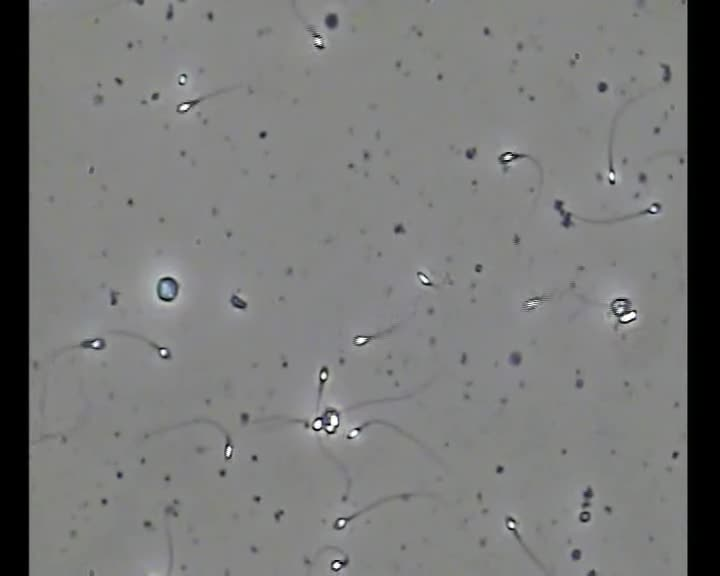spermhead: (156, 276, 178, 301), (322, 407, 340, 434), (609, 297, 631, 317), (313, 26, 326, 52), (229, 292, 248, 309), (617, 309, 638, 324), (416, 269, 433, 286), (84, 336, 107, 348), (496, 152, 517, 165), (331, 557, 349, 571), (177, 100, 195, 114), (324, 12, 338, 29), (350, 332, 367, 345), (521, 297, 538, 310), (333, 516, 348, 530), (646, 201, 661, 214), (347, 426, 361, 439), (553, 199, 566, 213), (224, 440, 233, 460), (505, 516, 517, 531), (318, 365, 328, 383), (561, 212, 573, 227), (157, 346, 171, 358), (579, 509, 591, 523), (311, 416, 322, 431), (607, 168, 616, 184), (177, 72, 187, 85), (566, 274, 576, 285), (302, 420, 310, 429), (142, 431, 151, 439)
